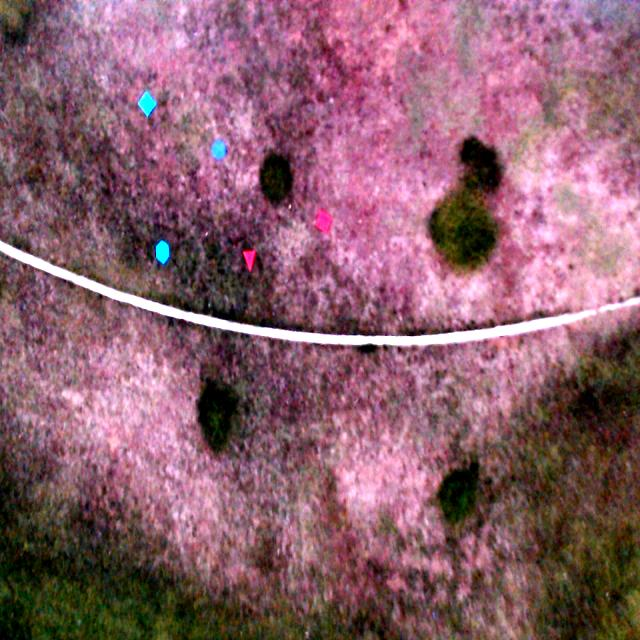blue_hexagon: (154, 239, 170, 266), (210, 138, 227, 162)
blue_square: (136, 92, 156, 117)
red_square: (315, 210, 332, 234)
red_triangle: (243, 250, 256, 272)
